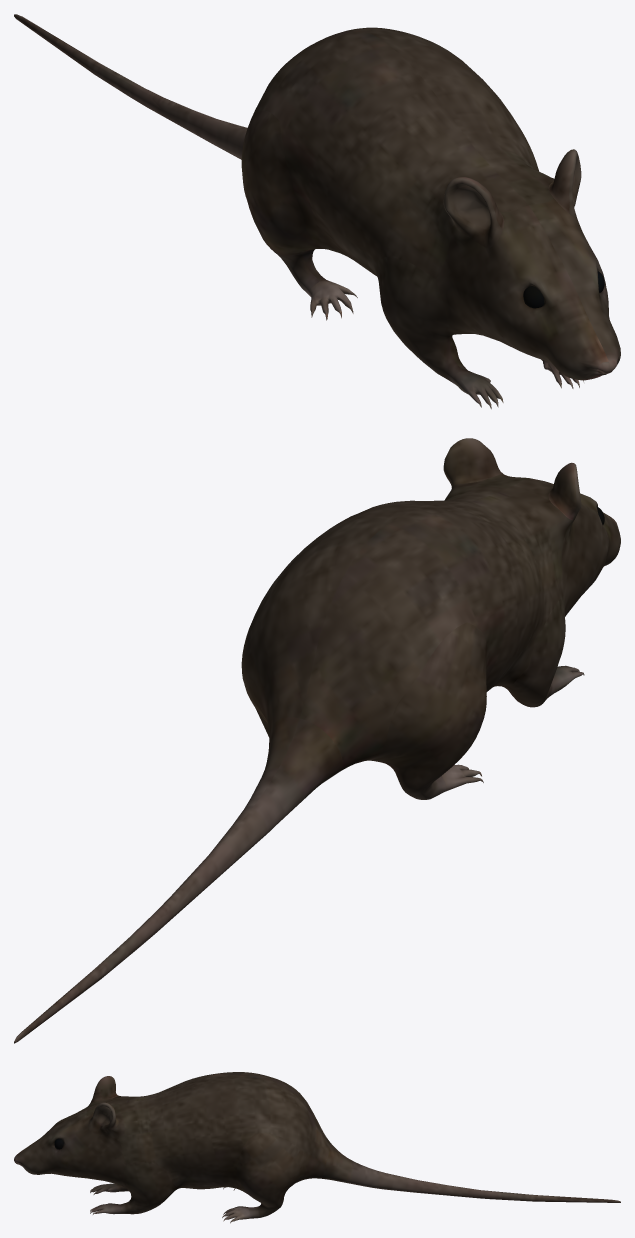
Rendered from street_rat_lod1.glb.
3 views of the same model, one above another, from view 1: azimuth 30°, elevation 25°; view 2: azimuth 150°, elevation 25°; view 3: azimuth 270°, elevation 25° (orthographic). The views are drawn at different scales.
Parts seen in each view (by area): view 1: street_rat; view 2: street_rat; view 3: street_rat.
Part boxes in pixels (x1,y1,x2,y2): street_rat: [14, 14, 620, 409]; street_rat: [14, 438, 620, 1043]; street_rat: [14, 1072, 620, 1223].
Size of the model in its own units: 0.032 by 0.0338 by 0.1483.
1 material, 1 textured.
